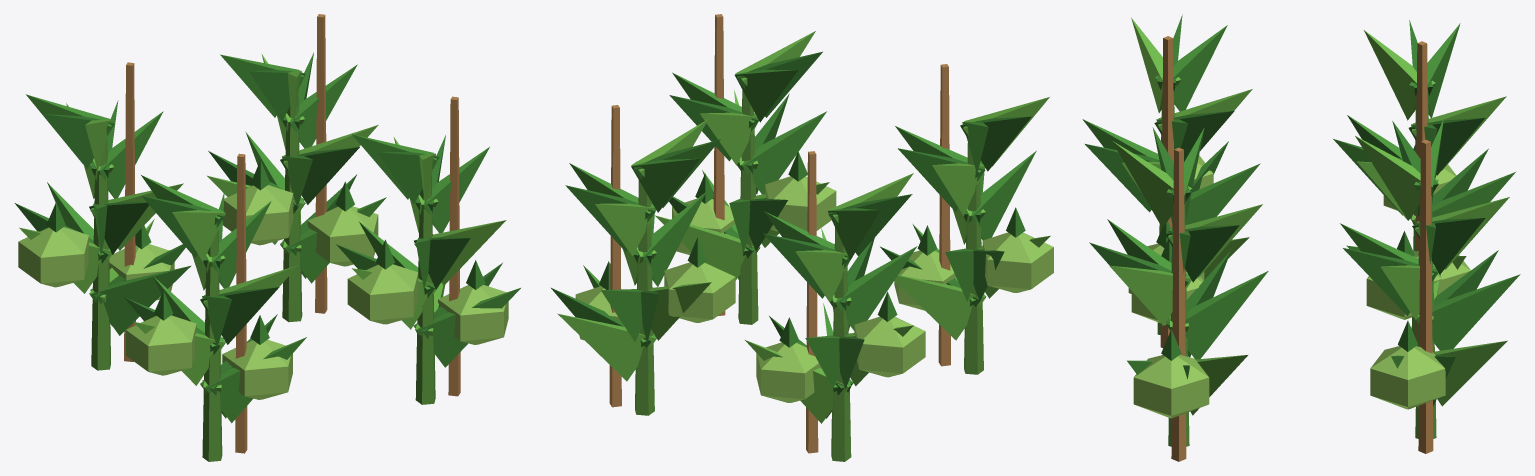
Rendered from tomato-3.glb.
3 renders of one model, left to right at view 1: azimuth 30°, elevation 25°; view 2: azimuth 150°, elevation 25°; view 3: azimuth 270°, elevation 25°, orthographic. The views are drawn at different scales.
Visible parts, largest first — view 1: tomato-3; view 2: tomato-3; view 3: tomato-3.
Boxes of the visible parts, bbox=[...] form: tomato-3: bbox=[14, 14, 520, 461]; tomato-3: bbox=[550, 14, 1053, 461]; tomato-3: bbox=[1082, 14, 1520, 461].
Size of the model in its own units: 0.7386 by 0.55 by 0.7071.
Materials: 1 (1 with a texture image).
